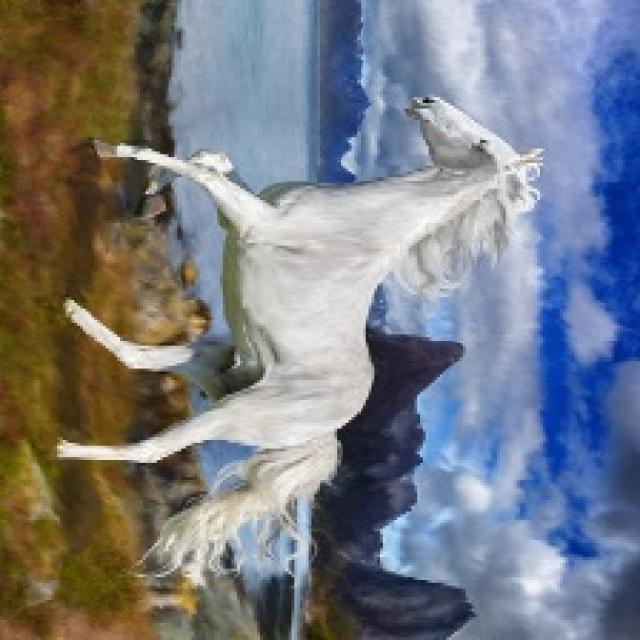animal: (71, 41, 595, 615)
